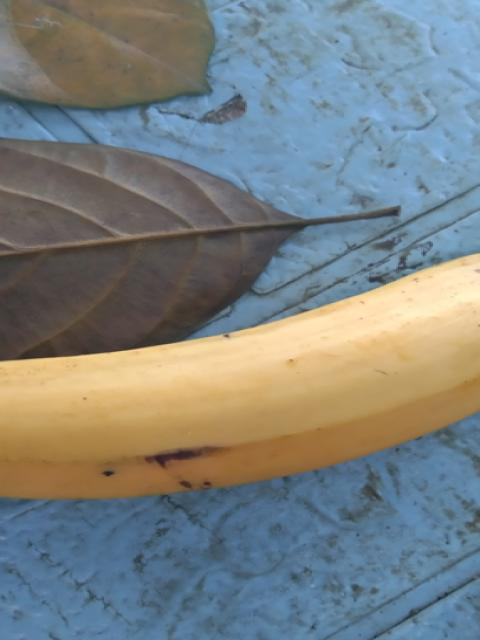freshripe: (0, 252, 478, 543)
